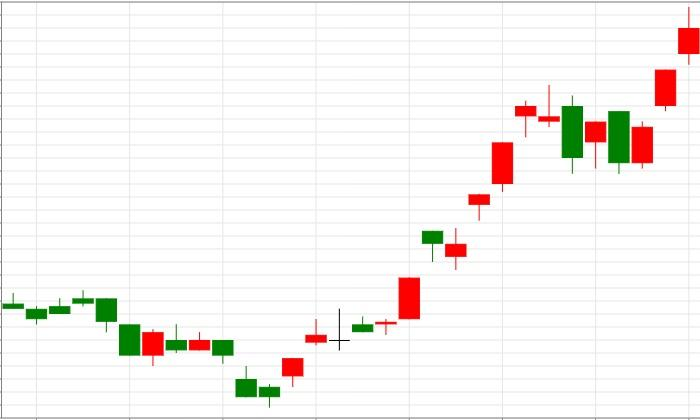bullish_engulfing_rise: (515, 84, 630, 174)
three_white_soldiers_rise: (515, 6, 700, 174)
